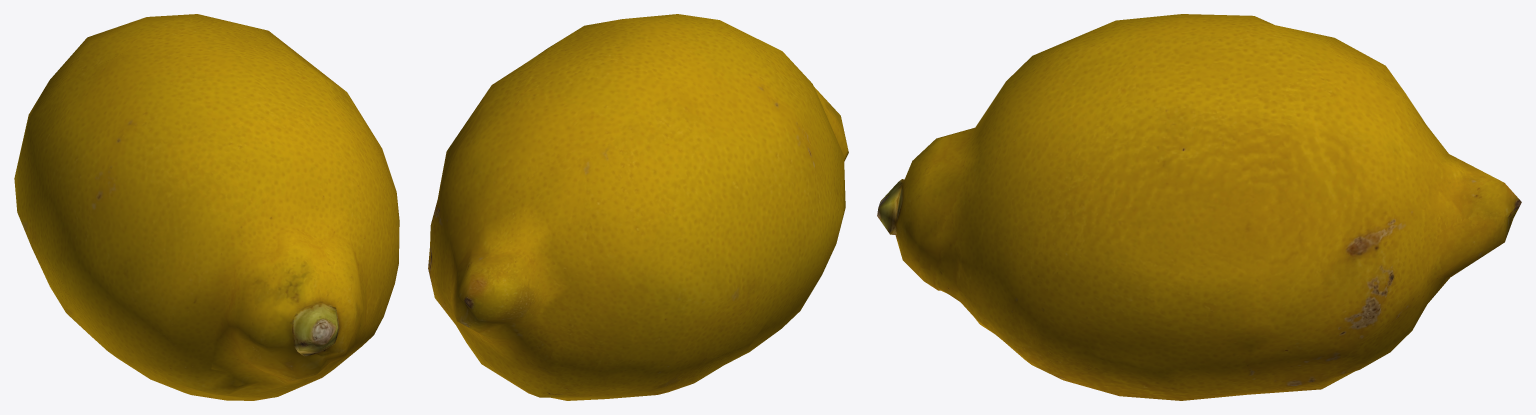
Rendered from lemon.glb.
3 views of the same model, side by side, from view 1: azimuth 30°, elevation 25°; view 2: azimuth 150°, elevation 25°; view 3: azimuth 270°, elevation 25° (orthographic). The views are drawn at different scales.
Visible parts, largest first — view 1: Lemon; view 2: Lemon; view 3: Lemon.
Part boxes in pixels (bbox=[...]): Lemon: bbox=[14, 14, 399, 400]; Lemon: bbox=[428, 14, 848, 400]; Lemon: bbox=[877, 14, 1521, 400].
Bounding box in the file's own units: 2.31 × 2.36 × 3.84.
1 material, 1 textured.
